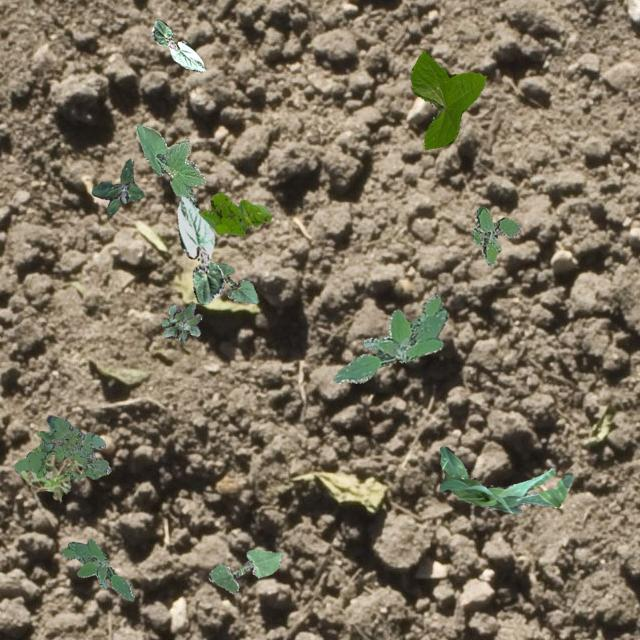crop: (438, 446, 572, 512), (410, 50, 486, 148), (134, 123, 204, 200), (176, 195, 222, 304), (208, 548, 282, 592), (150, 19, 203, 72), (215, 262, 257, 302)
weed: (332, 294, 447, 382), (12, 414, 110, 480), (59, 538, 132, 600), (198, 192, 270, 234), (20, 454, 84, 501), (90, 158, 142, 215), (472, 206, 520, 264), (160, 300, 200, 342)
